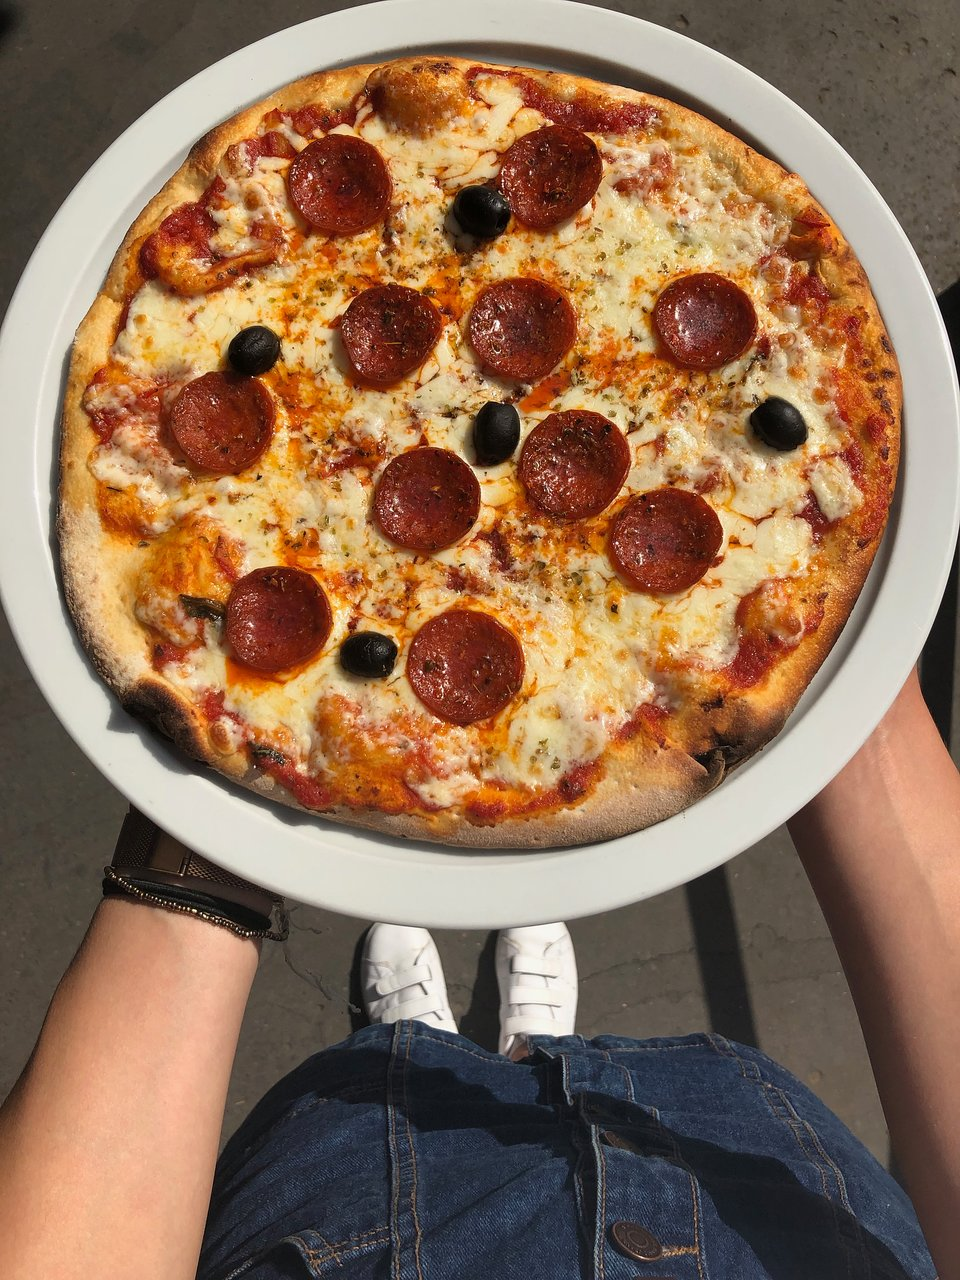Olives: (466, 394, 519, 464), (452, 178, 510, 237), (751, 399, 812, 455), (223, 325, 278, 380), (343, 633, 396, 681)
Pepperoni: (223, 565, 334, 672), (405, 615, 519, 719), (494, 121, 603, 227), (614, 487, 719, 592), (471, 280, 575, 383), (371, 453, 478, 552), (167, 378, 278, 473), (524, 417, 626, 512), (289, 139, 392, 232), (334, 287, 436, 380), (658, 273, 751, 373)
Pizza: (51, 58, 907, 858)
